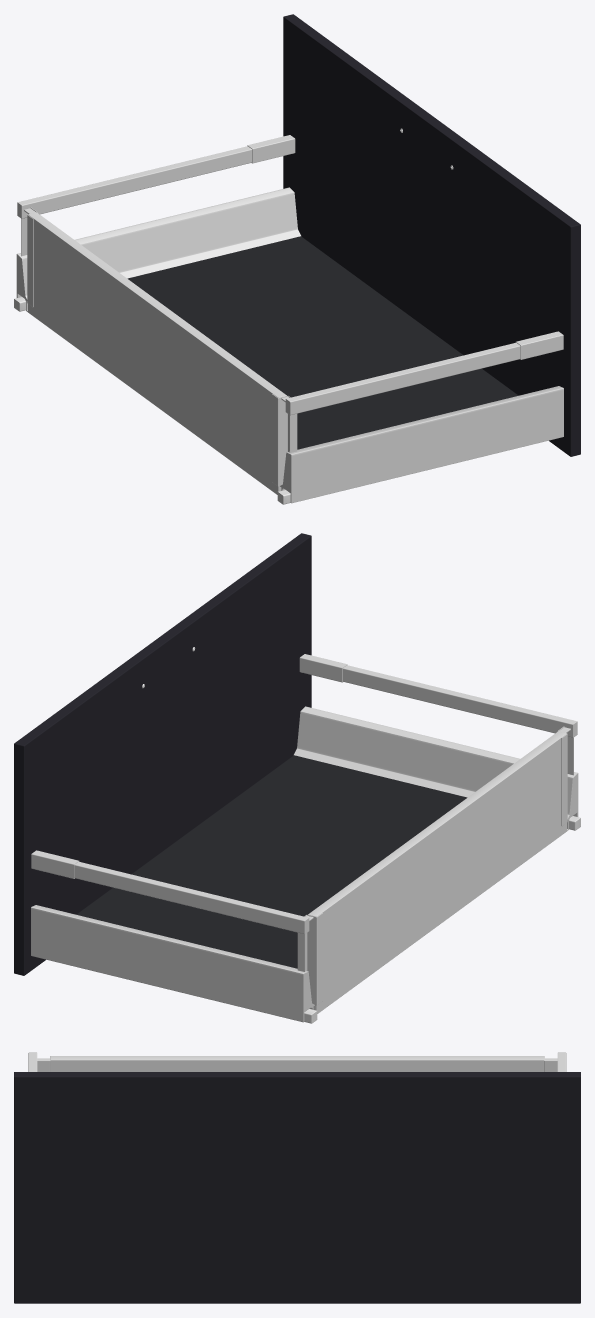
Rendered from Kitchen11Drawer03.fbx.
3 views of the same model, one above another, from view 1: azimuth 30°, elevation 25°; view 2: azimuth 150°, elevation 25°; view 3: azimuth 270°, elevation 25° (orthographic).
Visible parts, largest first — view 1: Kitchen11Drawer03; view 2: Kitchen11Drawer03; view 3: Kitchen11Drawer03.
Part boxes in pixels (x1,y1,x2,y2): Kitchen11Drawer03: [14, 14, 580, 504]; Kitchen11Drawer03: [14, 533, 580, 1023]; Kitchen11Drawer03: [14, 1052, 580, 1303].
Size of the model in its own units: 51.99 by 89.69 by 39.6.
4 materials, 1 textured.
